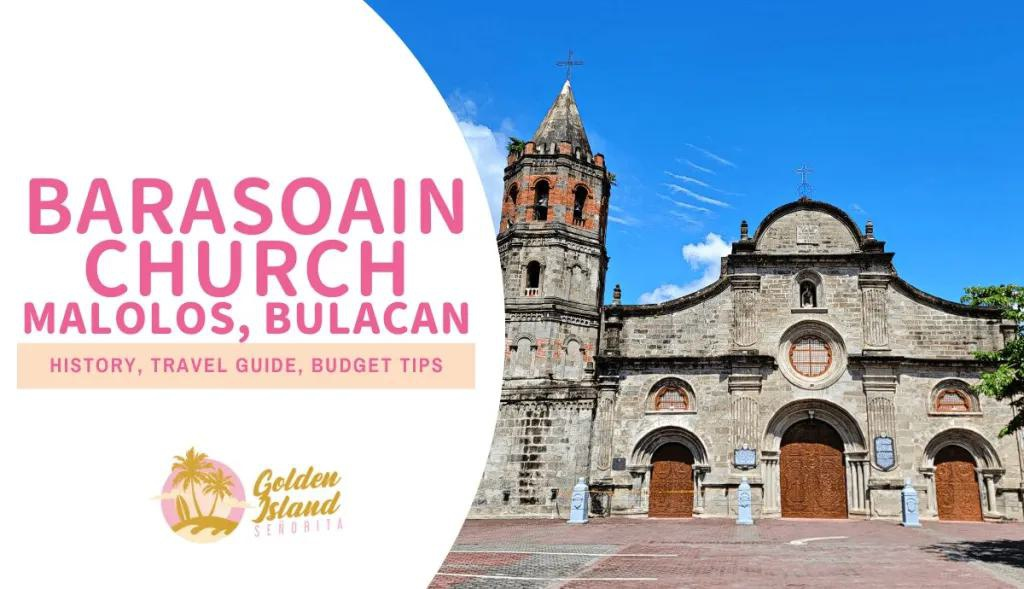barasoain_church_malolos_bulacan: (478, 42, 1024, 530)
